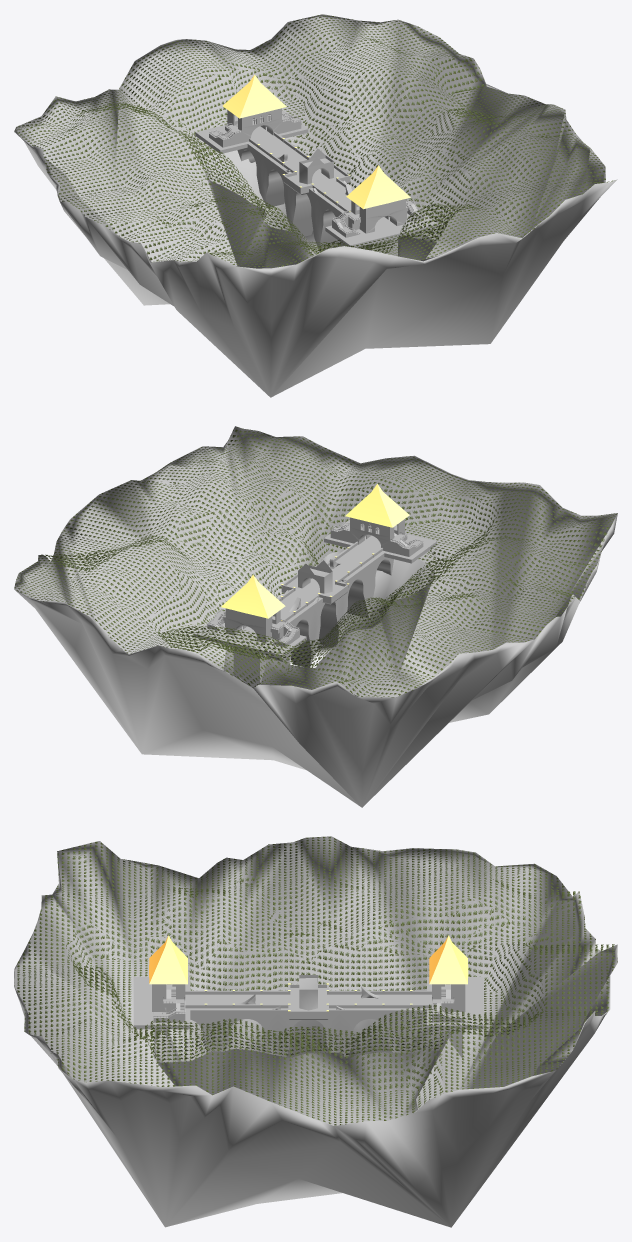
The model's file is BridgeCrossing.fbx.
3 renders of one model, top to bottom at view 1: azimuth 30°, elevation 25°; view 2: azimuth 150°, elevation 25°; view 3: azimuth 270°, elevation 25°, orthographic. The views are drawn at different scales.
Visible parts, largest first — view 1: Terrain, BridgeSurface, BridgeBrick, Building, Roof; view 2: Terrain, BridgeBrick, BridgeSurface, Building, Roof; view 3: Terrain, BridgeSurface, BridgeBrick, Roof, Building.
Boxes of the visible parts, box(x1,y1,x2,y2) form: Terrain: box(14, 14, 617, 397); BridgeSurface: box(195, 111, 437, 247); BridgeBrick: box(237, 138, 397, 256); Building: box(209, 108, 424, 237); Roof: box(222, 74, 410, 209); Terrain: box(14, 426, 617, 807); BridgeBrick: box(233, 547, 393, 685); BridgeSurface: box(194, 520, 436, 658); Building: box(207, 517, 423, 646); Roof: box(221, 484, 409, 618); Terrain: box(14, 836, 617, 1227); BridgeSurface: box(133, 977, 483, 1029); BridgeBrick: box(154, 975, 462, 1058); Roof: box(149, 935, 468, 984); Building: box(152, 984, 465, 1022).
Bounding box in the file's own units: 11302 × 4609 × 10869.
